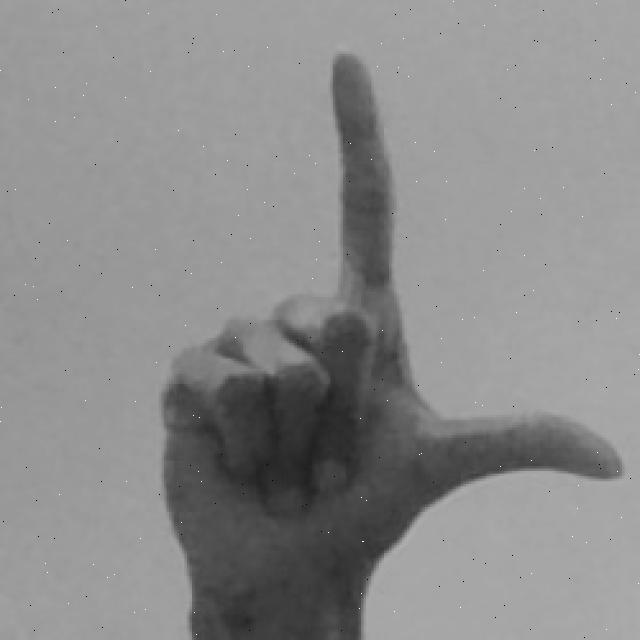L: (157, 43, 626, 640)
